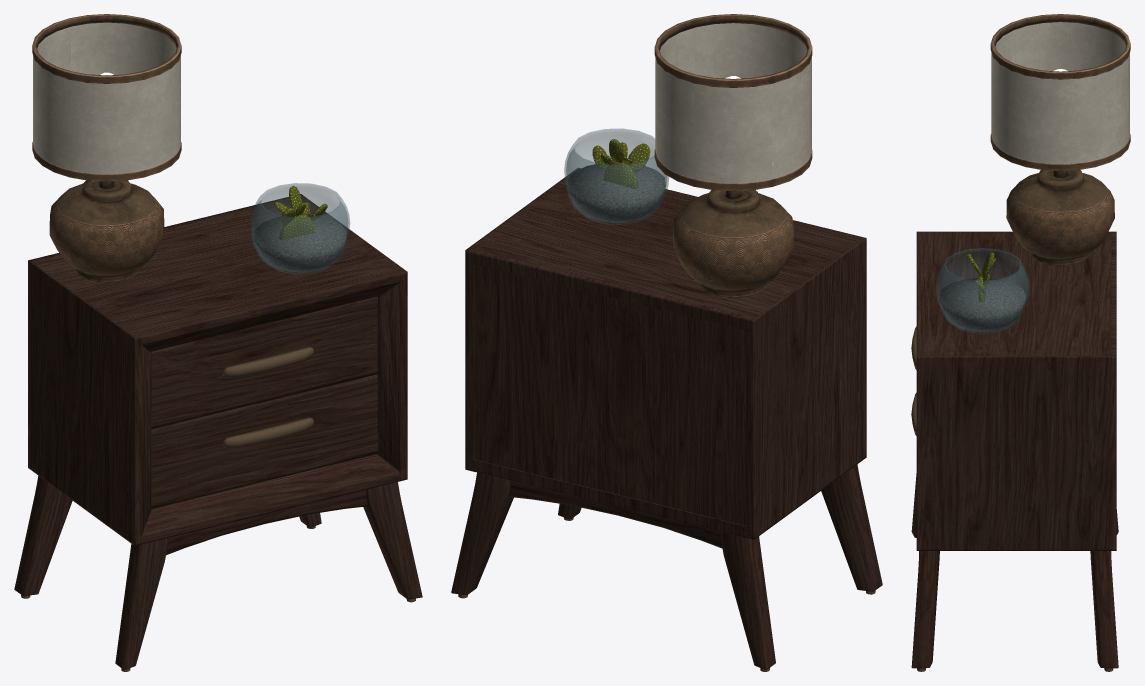
File: nightstand.glb
3 renders of one model, left to right at view 1: azimuth 30°, elevation 25°; view 2: azimuth 150°, elevation 25°; view 3: azimuth 270°, elevation 25°, orthographic. The views are drawn at different scales.
Visible parts, largest first — view 1: Nightstand, Lamp, Vase; view 2: Nightstand, Lamp, Vase; view 3: Nightstand, Lamp, Vase.
Boxes of the visible parts, x1=… form: Nightstand: x1=14, y1=194, x2=422, y2=671; Lamp: x1=32, y1=14, x2=181, y2=282; Vase: x1=251, y1=183, x2=349, y2=273; Nightstand: x1=451, y1=168, x2=882, y2=671; Lamp: x1=654, y1=14, x2=812, y2=297; Vase: x1=564, y1=128, x2=668, y2=224; Nightstand: x1=911, y1=231, x2=1118, y2=671; Lamp: x1=990, y1=14, x2=1130, y2=265; Vase: x1=936, y1=248, x2=1029, y2=333.
Bounding box in the file's own units: 56.01 × 98.86 × 37.68.
4 materials, 4 textured.
